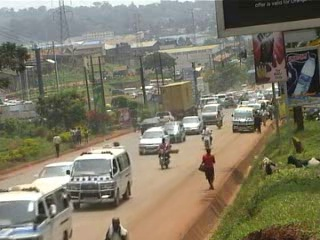Car: (29, 159, 75, 198), (137, 125, 173, 155), (157, 119, 186, 148), (178, 113, 205, 135), (138, 115, 164, 136)
Motorcycle: (154, 134, 180, 171), (199, 120, 215, 151), (214, 109, 225, 130)
